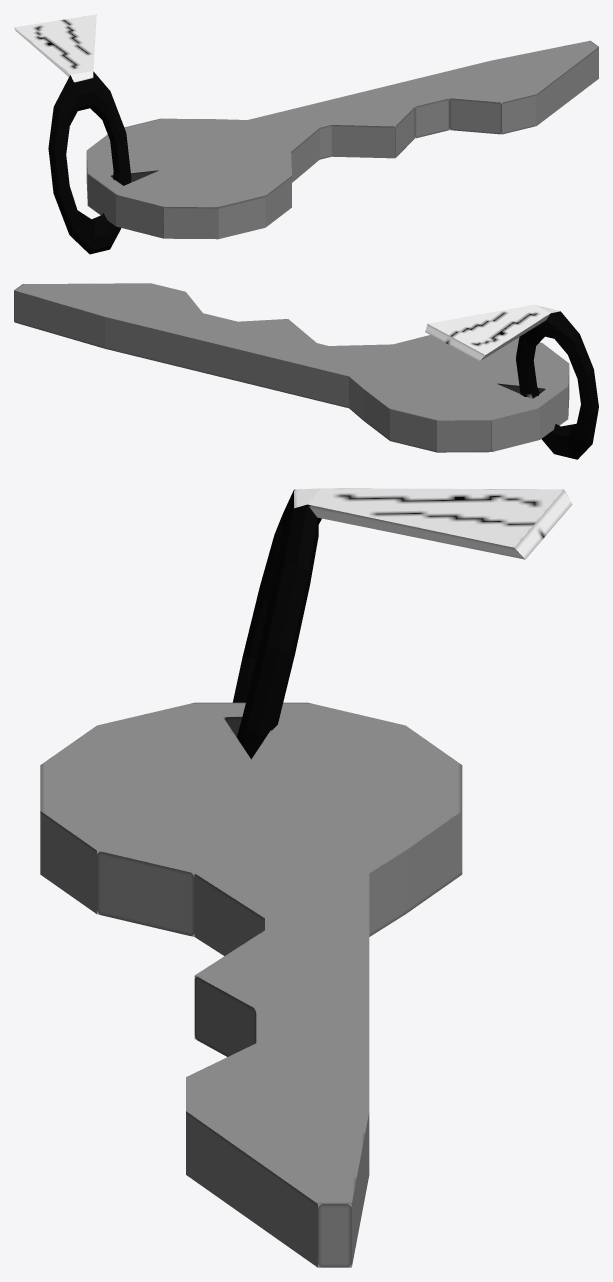
Rendered from Key.obj.
3 views of the same model, one above another, from view 1: azimuth 30°, elevation 25°; view 2: azimuth 150°, elevation 25°; view 3: azimuth 270°, elevation 25° (orthographic). The views are drawn at different scales.
Parts seen in each view (by area): view 1: torus; view 2: torus; view 3: torus.
Part boxes in pixels (x1,y1,x2,y2): torus: (14, 14, 598, 254); torus: (14, 283, 598, 459); torus: (40, 488, 572, 1267).
Size of the model in its own units: 9.19 by 2.65 by 3.78.
1 material, 1 textured.
